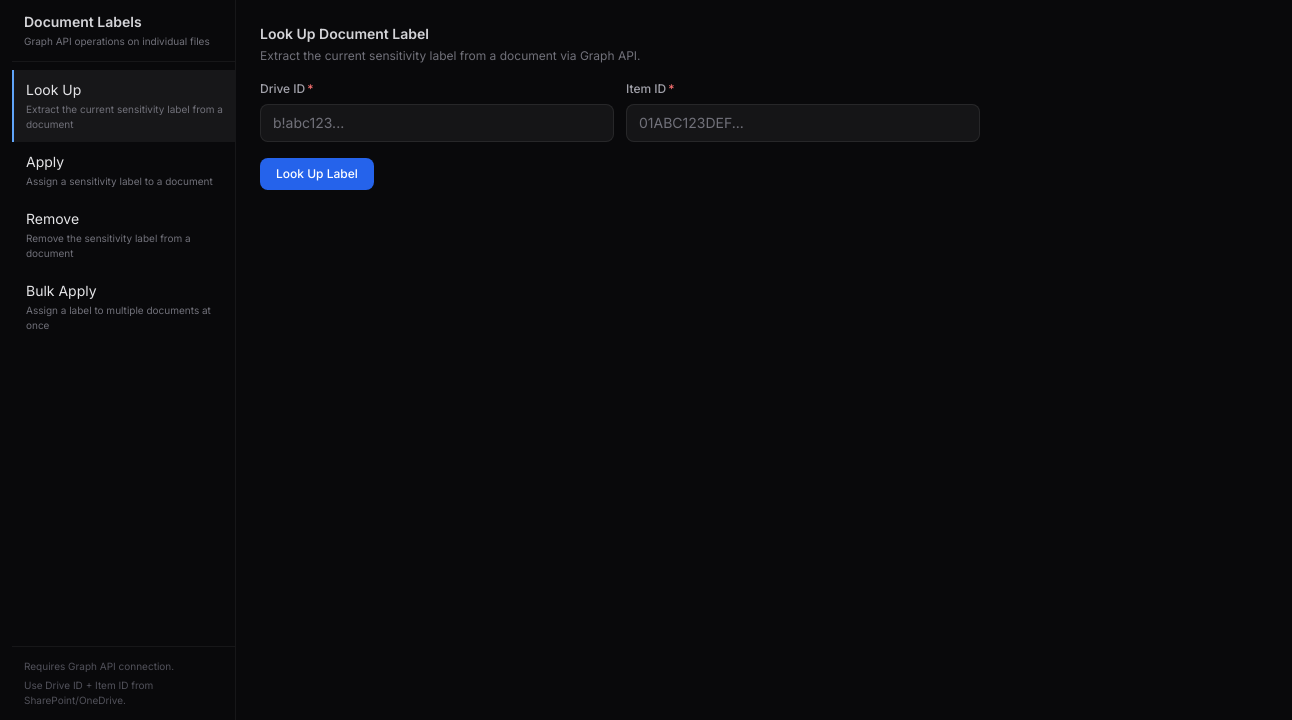
Test case: DocumentsPage › Look Up shows label results
Type "b!drive" into the field with placeholder "b!abc123..." at (437, 123), box [260,104,614,142]
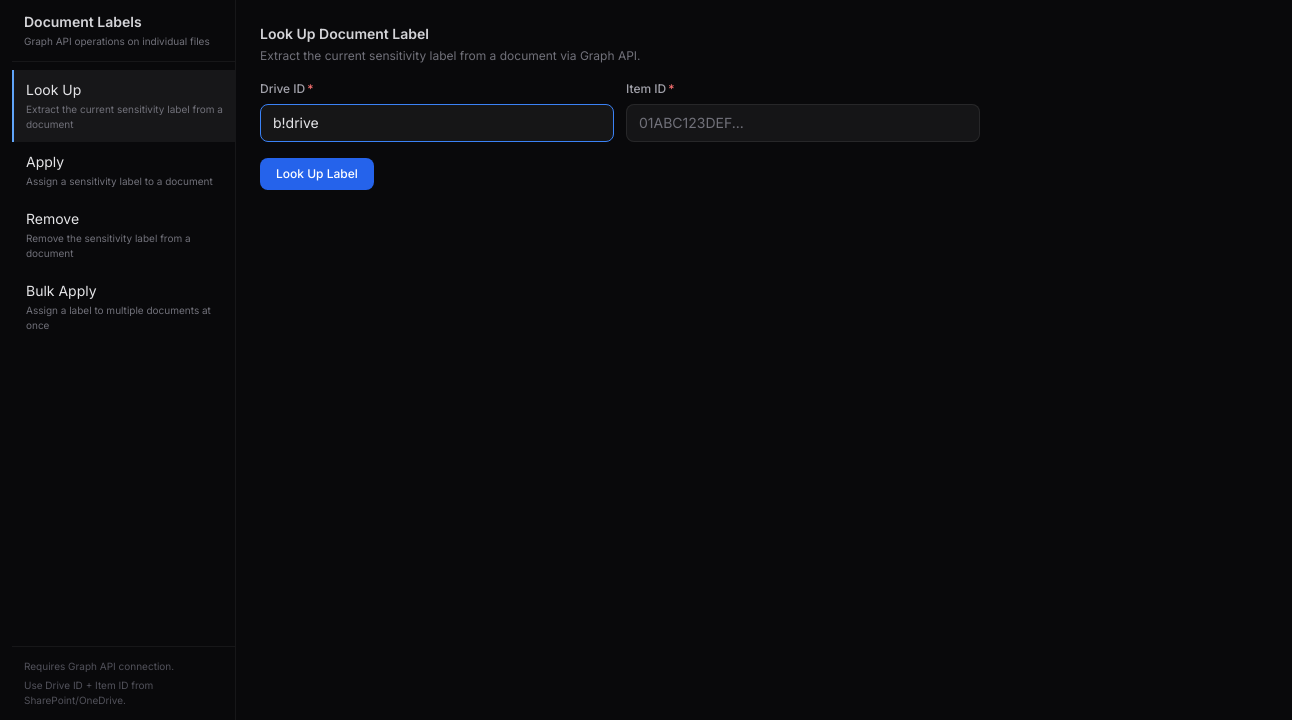
Type "01ITEM" into the field with placeholder "01ABC123DEF..." at (803, 123), box [626,104,980,142]
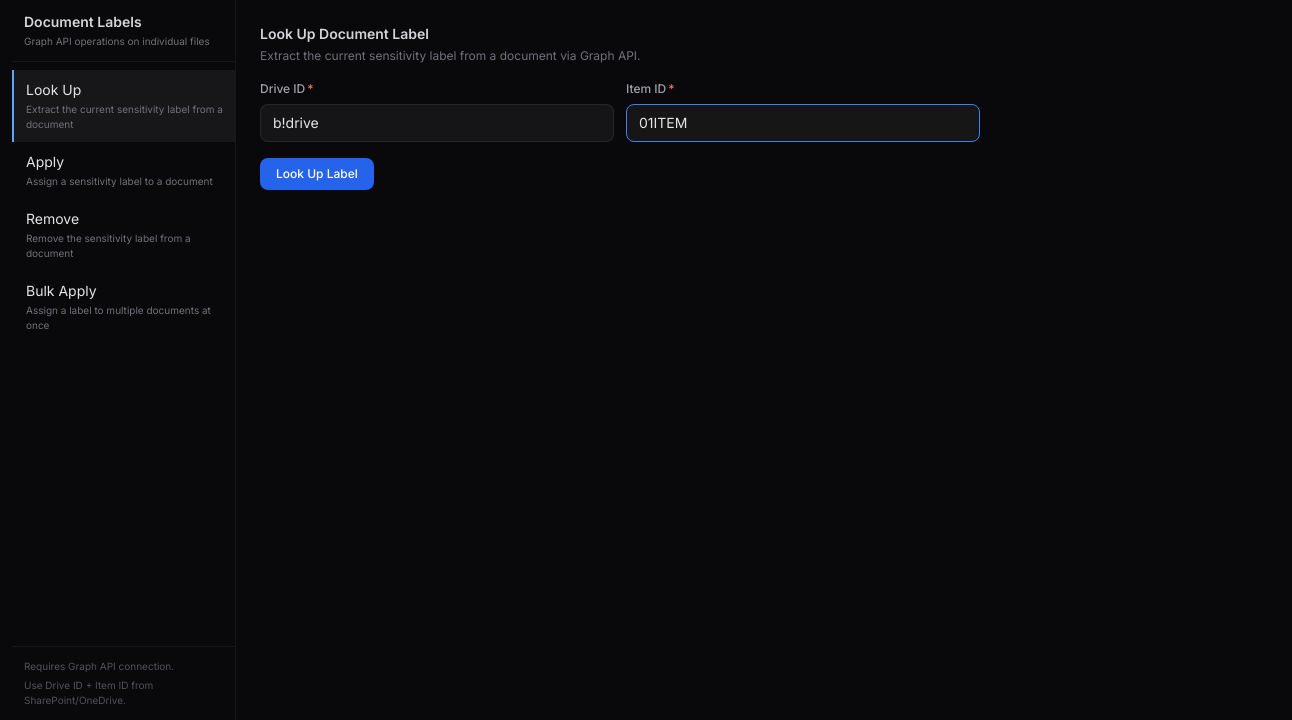
Click the button "Look Up Label" at (317, 174), box [260,158,374,190]
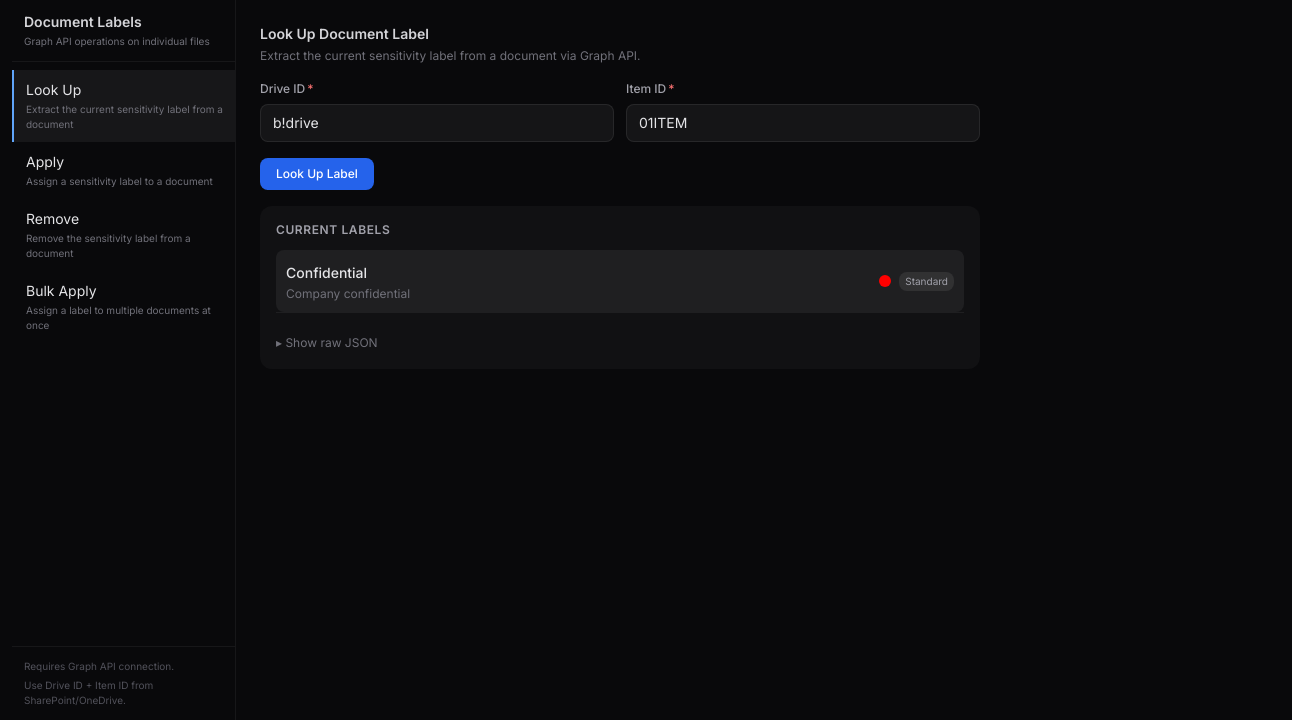
Check: the text "Confidential" is shown, box [286,264,367,281]
Check: the text "Company confidential" is shown, box [286,286,410,302]
